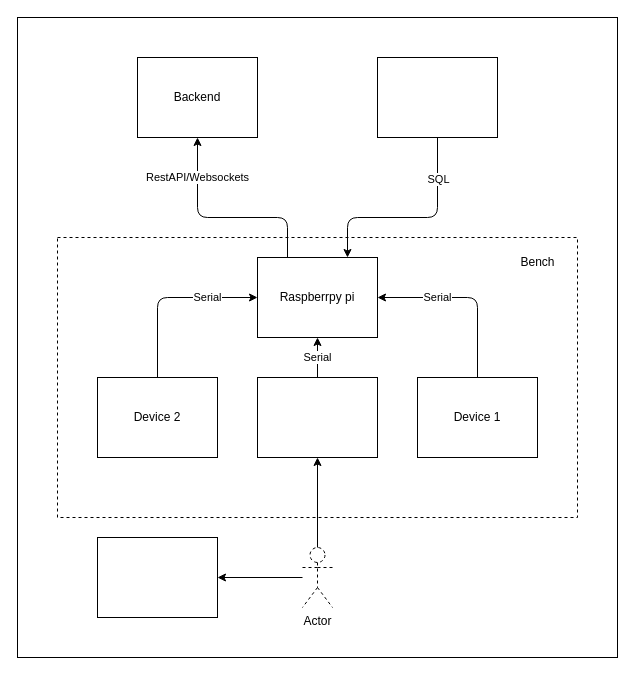
The diagram is 635 pixels wide and 675 high, and some of its shapes have lost their labels. The box of each missing label's shape, as (x1, y1, x2, y2) in pixels:
Browser: (96, 536, 218, 618)
Configuration Server: (376, 56, 498, 138)
Scanner: (256, 376, 378, 458)
